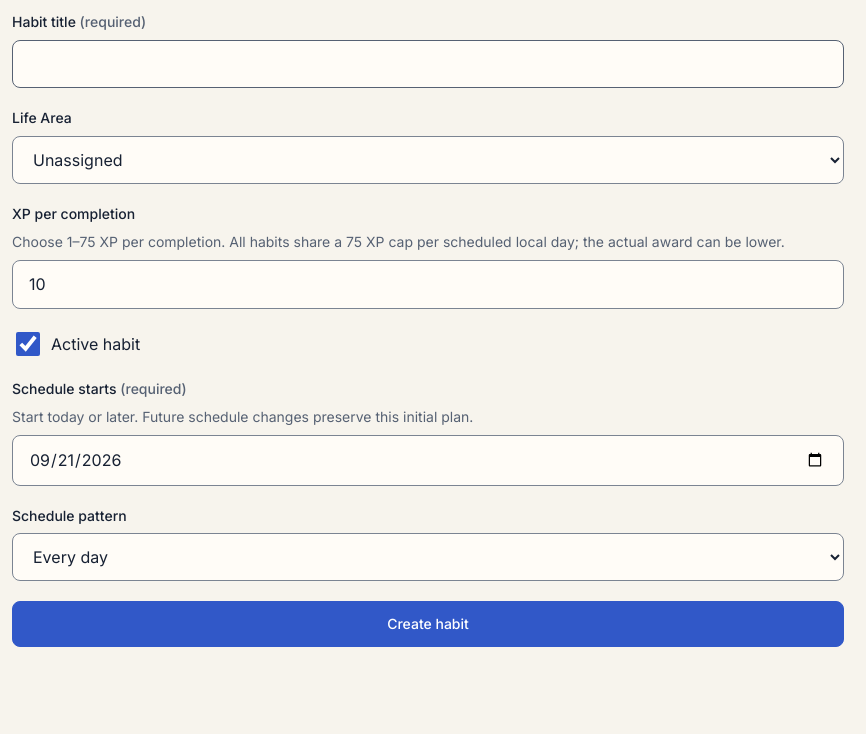
Test: habit creation validates 1 XP against the displayed range
Type "A daily practice" into the field labelled "Habit title".
click(428, 64); type("A daily practice")  # box [12, 40, 844, 88]
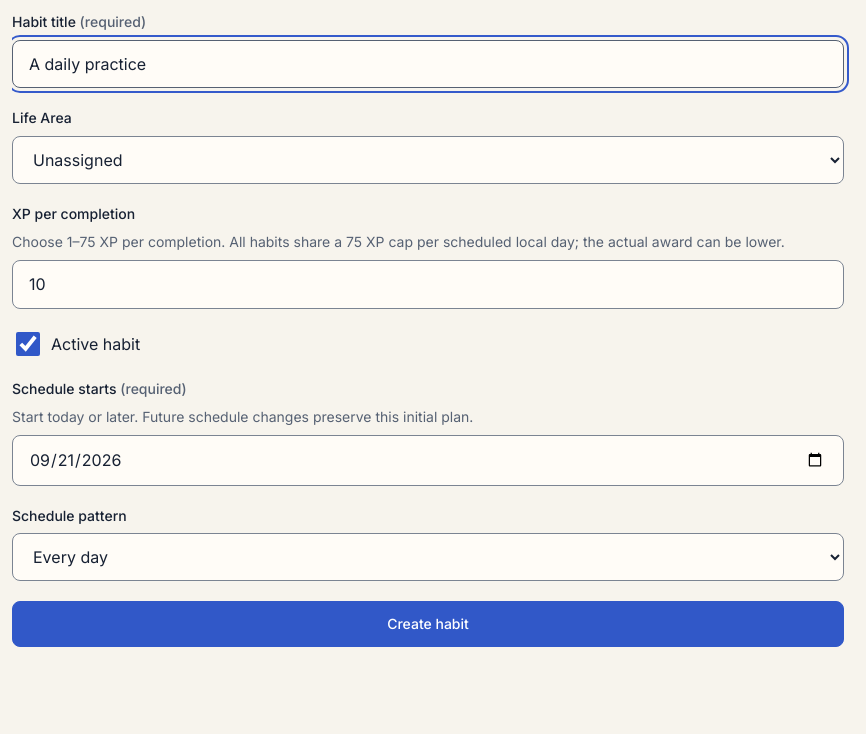
Replace the text in the number field labelled "XP per completion" with "1" at [428, 284], box [12, 260, 844, 309]
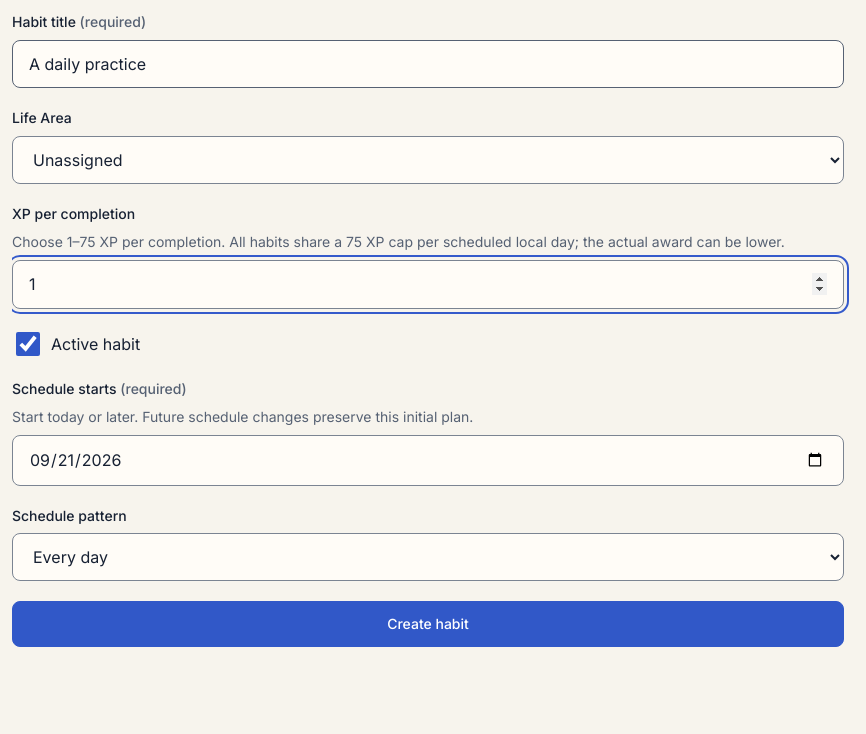
Click the button "Create habit".
click(428, 624)  # box [12, 601, 844, 647]
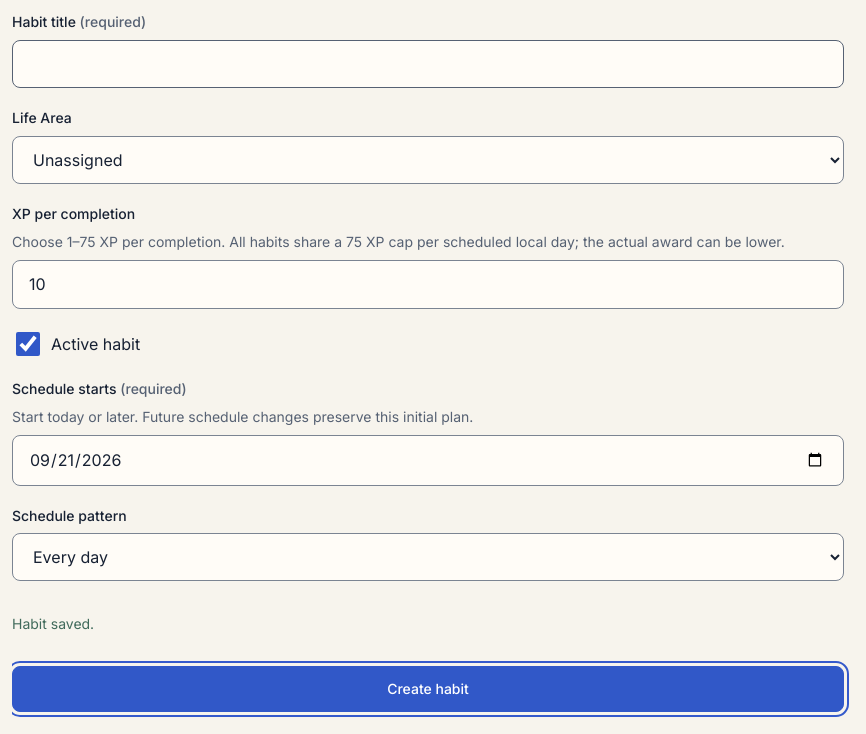
Check: the text "Habit saved." is shown, box [12, 615, 94, 632]
